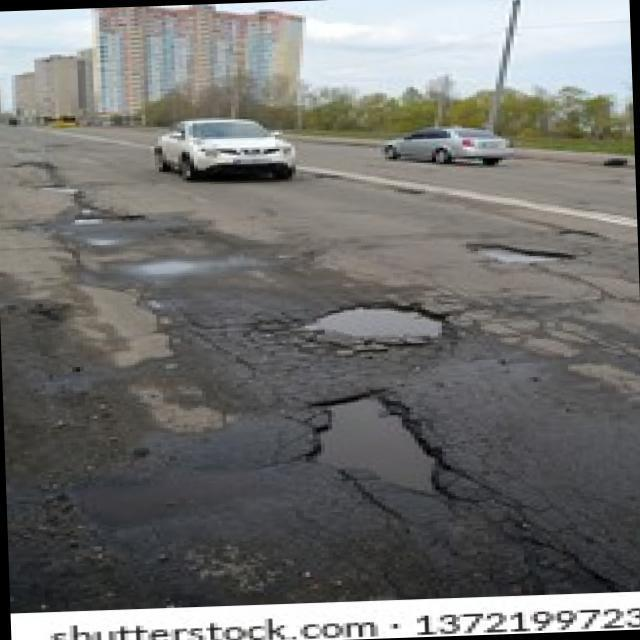pothole: (304, 387, 444, 503), (300, 299, 453, 347), (470, 240, 572, 267), (71, 213, 141, 225), (563, 225, 603, 243), (39, 184, 82, 195), (393, 186, 421, 194)
